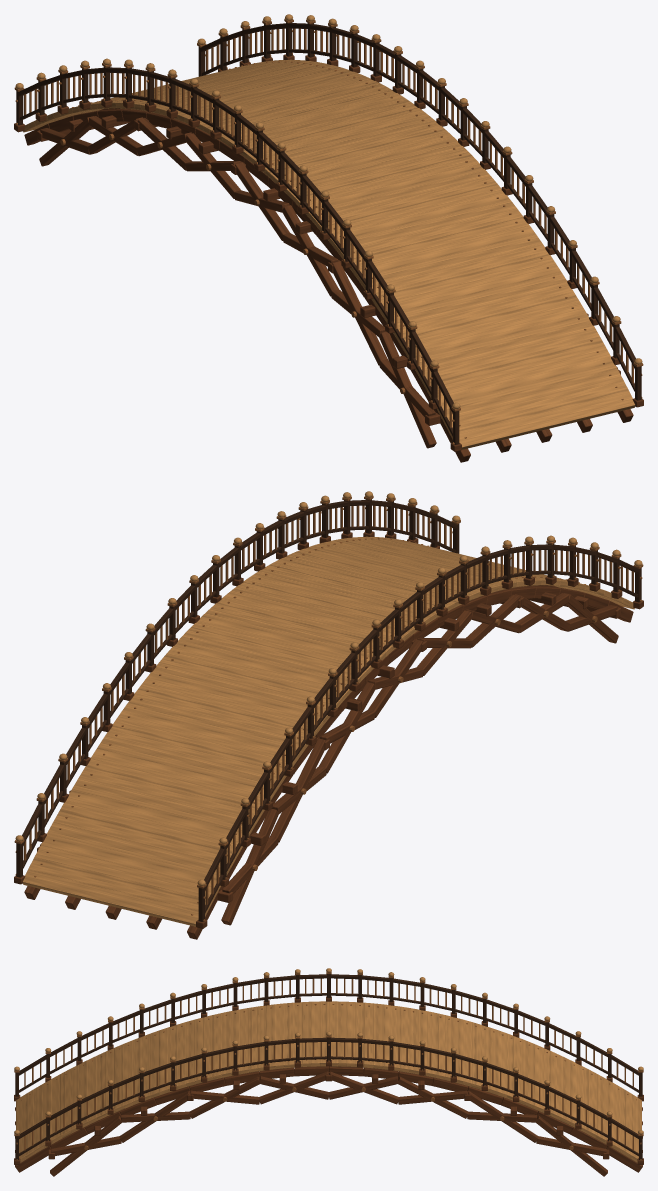
The model's file is hongqiao-refined.glb.
3 renders of one model, top to bottom at view 1: azimuth 30°, elevation 25°; view 2: azimuth 150°, elevation 25°; view 3: azimuth 270°, elevation 25°, orthographic. The views are drawn at different scales.
Parts seen in each view (by area): view 1: 虹桥-浅木桥板, 虹桥-暖棕拱架, 虹桥-深木栏杆, 虹桥-木销端面; view 2: 虹桥-浅木桥板, 虹桥-暖棕拱架, 虹桥-深木栏杆, 虹桥-木销端面; view 3: 虹桥-浅木桥板, 虹桥-暖棕拱架, 虹桥-深木栏杆, 虹桥-木销端面.
Boxes of the visible parts, x1=… form: 虹桥-浅木桥板: x1=15, y1=14, x2=642, y2=449; 虹桥-暖棕拱架: x1=14, y1=54, x2=643, y2=462; 虹桥-深木栏杆: x1=16, y1=22, x2=641, y2=444; 虹桥-木销端面: x1=14, y1=18, x2=643, y2=444; 虹桥-浅木桥板: x1=15, y1=491, x2=642, y2=926; 虹桥-暖棕拱架: x1=14, y1=531, x2=643, y2=939; 虹桥-深木栏杆: x1=16, y1=499, x2=641, y2=921; 虹桥-木销端面: x1=14, y1=495, x2=643, y2=921; 虹桥-浅木桥板: x1=14, y1=968, x2=643, y2=1162; 虹桥-暖棕拱架: x1=14, y1=996, x2=643, y2=1176; 虹桥-深木栏杆: x1=15, y1=974, x2=642, y2=1159; 虹桥-木销端面: x1=14, y1=972, x2=643, y2=1160.
Bounding box in the file's own units: 6.95 × 6.86 × 27.27.
Materials: 4 (4 with a texture image).
